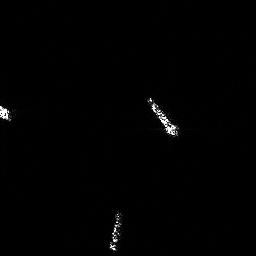ship: (147, 97, 180, 136), (109, 211, 123, 253)
